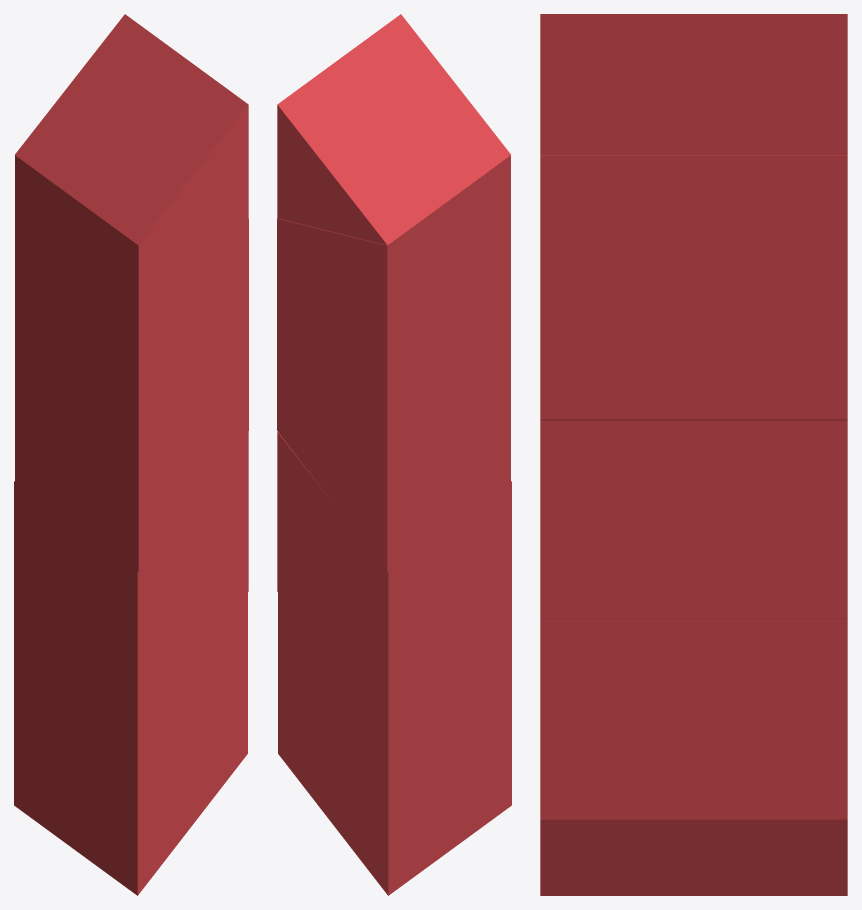
3 renders of one model, left to right at view 1: azimuth 30°, elevation 25°; view 2: azimuth 150°, elevation 25°; view 3: azimuth 270°, elevation 25°, orthographic. The views are drawn at different scales.
Parts seen in each view (by area): view 1: base5.001; view 2: base5.001; view 3: base5.001.
Boxes of the visible parts, box(x1,y1,x2,y2) form: base5.001: box(14, 14, 248, 895); base5.001: box(277, 14, 511, 895); base5.001: box(540, 14, 847, 895).
Size of the model in its own units: 0.7963 by 5.23 by 1.53.
